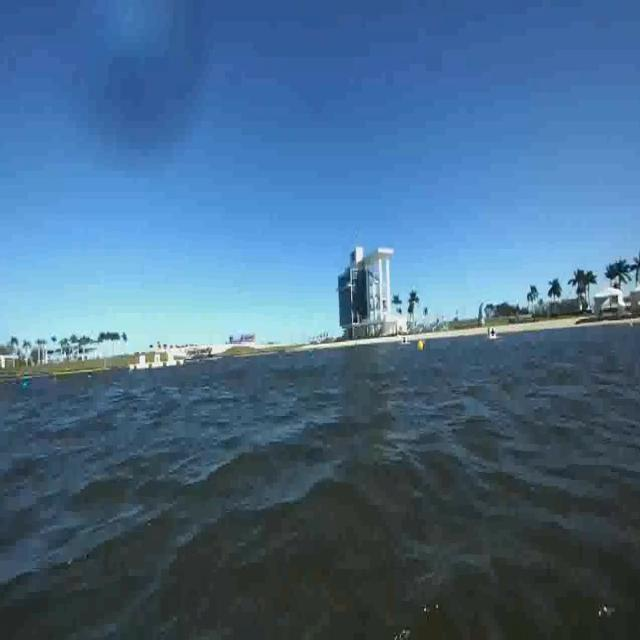yellow-buoy: (418, 340, 425, 353)
